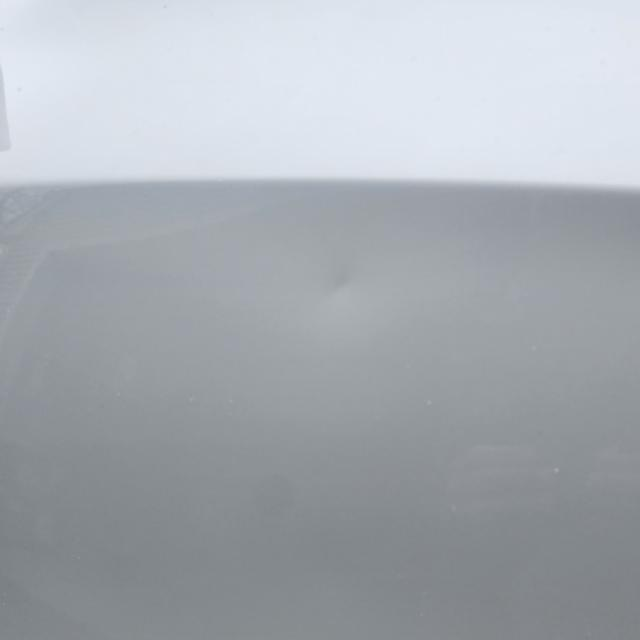dents: (310, 242, 383, 342)
